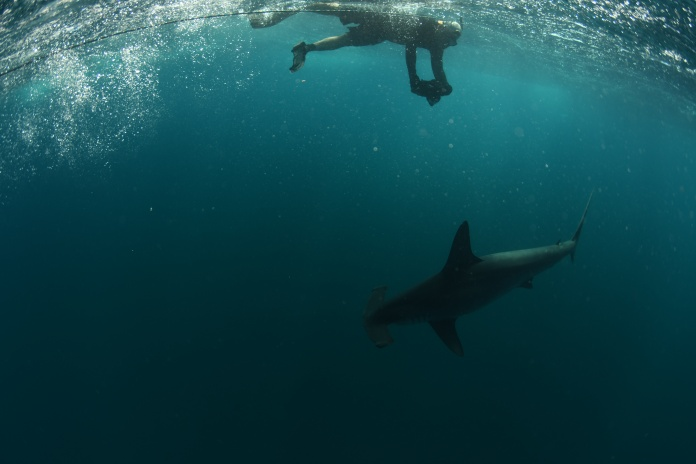Hammer: (332, 187, 635, 393)
